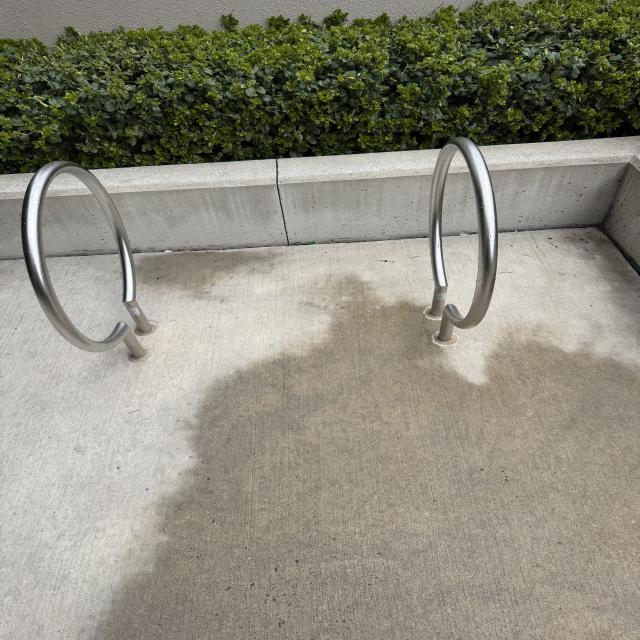Bicycle Rack: (23, 156, 156, 362), (425, 136, 500, 349)
